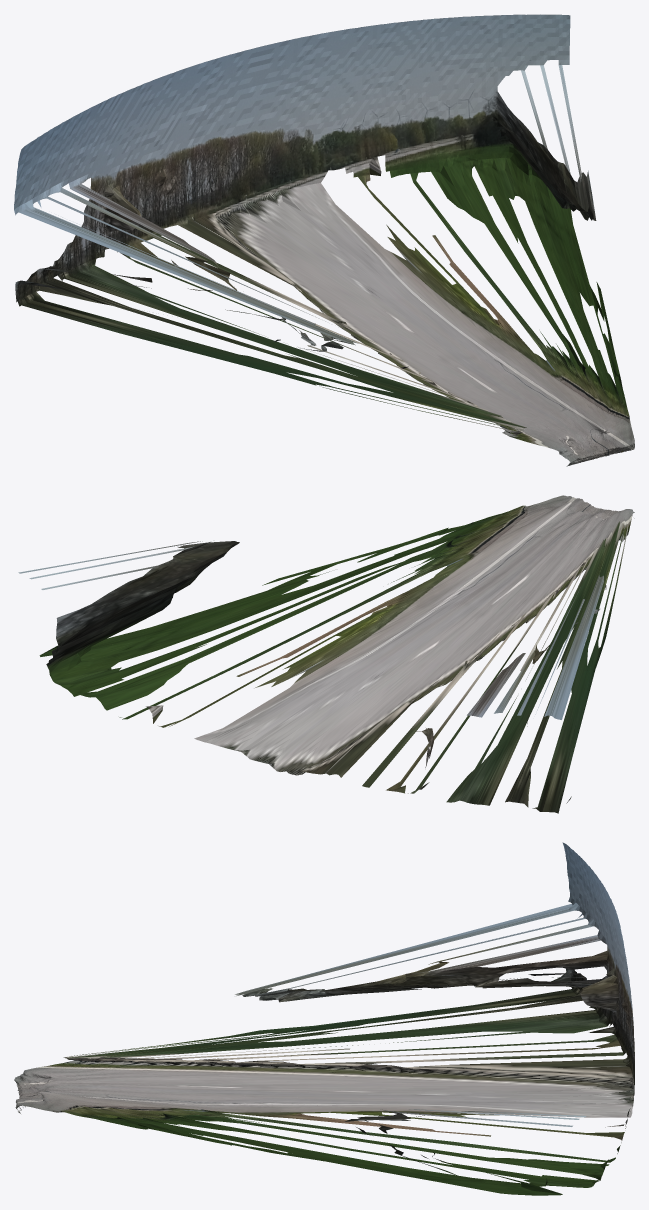
The picture shows the model from 3 angles, top to bottom: view 1: azimuth 30°, elevation 25°; view 2: azimuth 150°, elevation 25°; view 3: azimuth 270°, elevation 25°; orthographic projection. The views are drawn at different scales.
Visible parts, largest first — view 1: defaultobject; view 2: defaultobject; view 3: defaultobject.
Boxes of the visible parts, bbox=[...] form: defaultobject: bbox=[14, 14, 634, 466]; defaultobject: bbox=[18, 495, 634, 813]; defaultobject: bbox=[14, 842, 634, 1195].
Bounding box in the file's own units: 40.95 × 12.21 × 44.44.
Materials: 1 (1 with a texture image).
